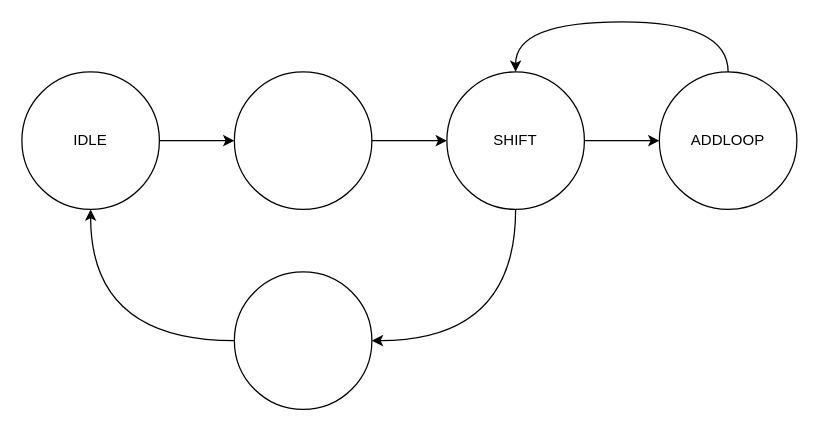
This 819x431 diagram has some shape labels left out. Each missing label, with the box of its shape:
DONE: (233, 271, 372, 409)
START: (233, 71, 372, 209)
